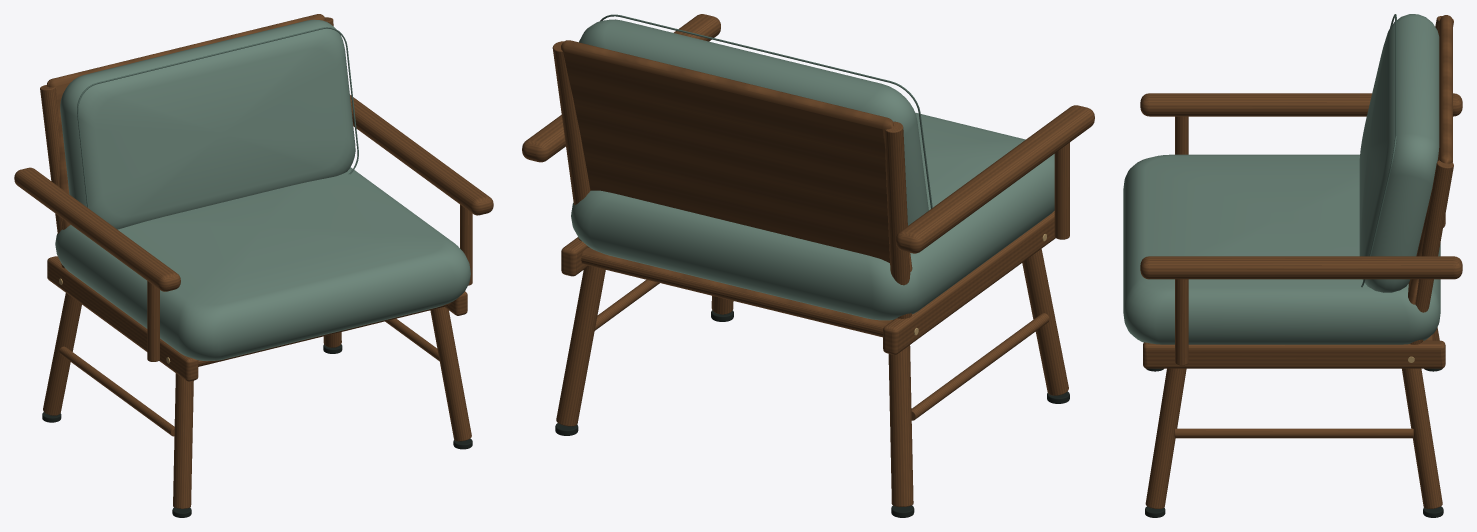
The model's file is chair.glb.
The picture shows the model from 3 angles, left to right: view 1: azimuth 30°, elevation 25°; view 2: azimuth 150°, elevation 25°; view 3: azimuth 270°, elevation 25°; orthographic projection. The views are drawn at different scales.
Parts seen in each view (by area): view 1: chair / Woven sage upholstery, chair / Oiled walnut, chair / Upholstery piping, chair / Soft black feet; view 2: chair / Oiled walnut, chair / Woven sage upholstery, chair / Upholstery piping, chair / Soft black feet; view 3: chair / Woven sage upholstery, chair / Oiled walnut, chair / Upholstery piping, chair / Soft black feet.
Boxes of the visible parts, x1,y1,x2,y2 form: chair / Woven sage upholstery: (55,19,470,360); chair / Oiled walnut: (14,14,493,508); chair / Upholstery piping: (77,27,358,208); chair / Soft black feet: (42,344,472,517); chair / Oiled walnut: (522,14,1094,506); chair / Woven sage upholstery: (571,19,1054,320); chair / Upholstery piping: (600,14,932,208); chair / Soft black feet: (555,310,1069,517); chair / Woven sage upholstery: (1123,14,1440,344); chair / Oiled walnut: (1140,15,1462,508); chair / Upholstery piping: (1361,14,1396,287); chair / Soft black feet: (1145,368,1443,517).
Bounding box in the file's own units: 0.845 × 0.826 × 0.695.
Materials: 5 (1 with a texture image).
